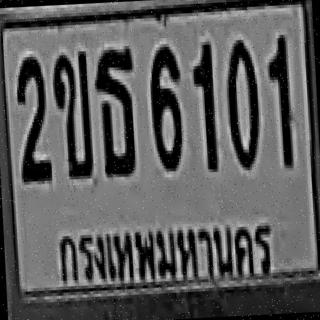A02: (51, 48, 92, 177)
A24: (93, 46, 138, 175)
N00: (224, 37, 260, 168)
N01: (266, 35, 292, 166), (190, 42, 216, 170)
N02: (13, 54, 50, 180)
N06: (146, 44, 183, 170)
P04: (45, 208, 284, 299)
